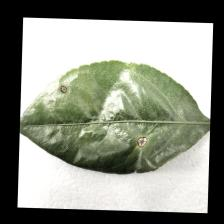canker: (56, 86, 159, 160)
